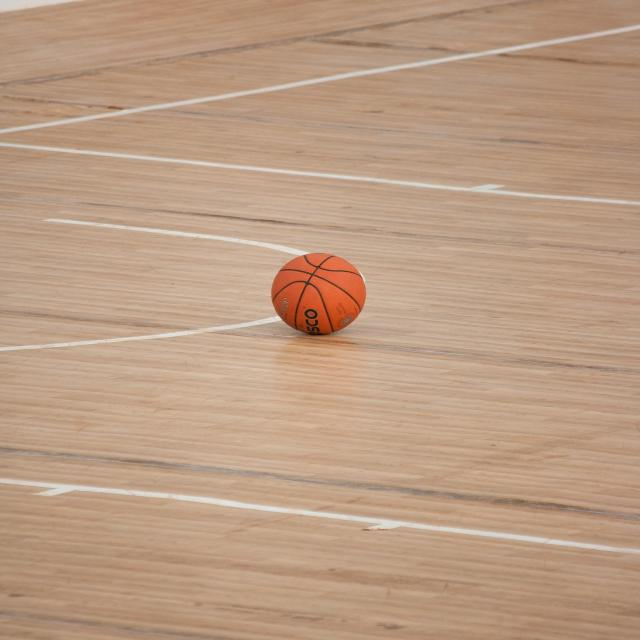Basketball: (270, 253, 366, 335)
